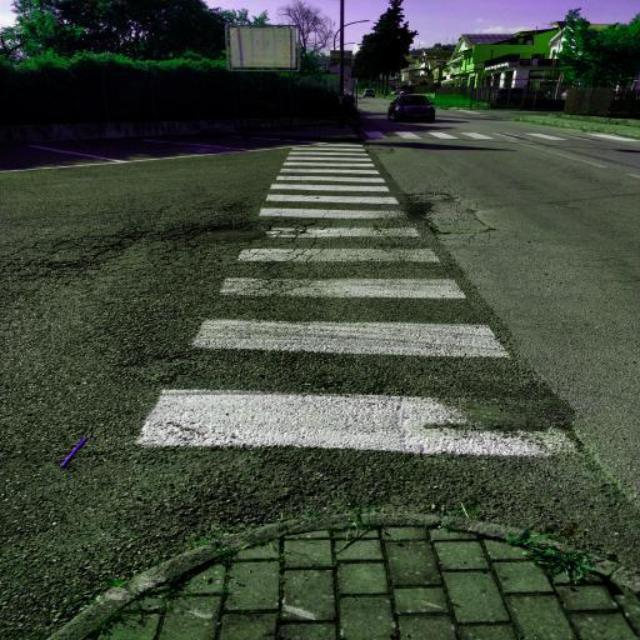sidewalk: (65, 123, 638, 625)
